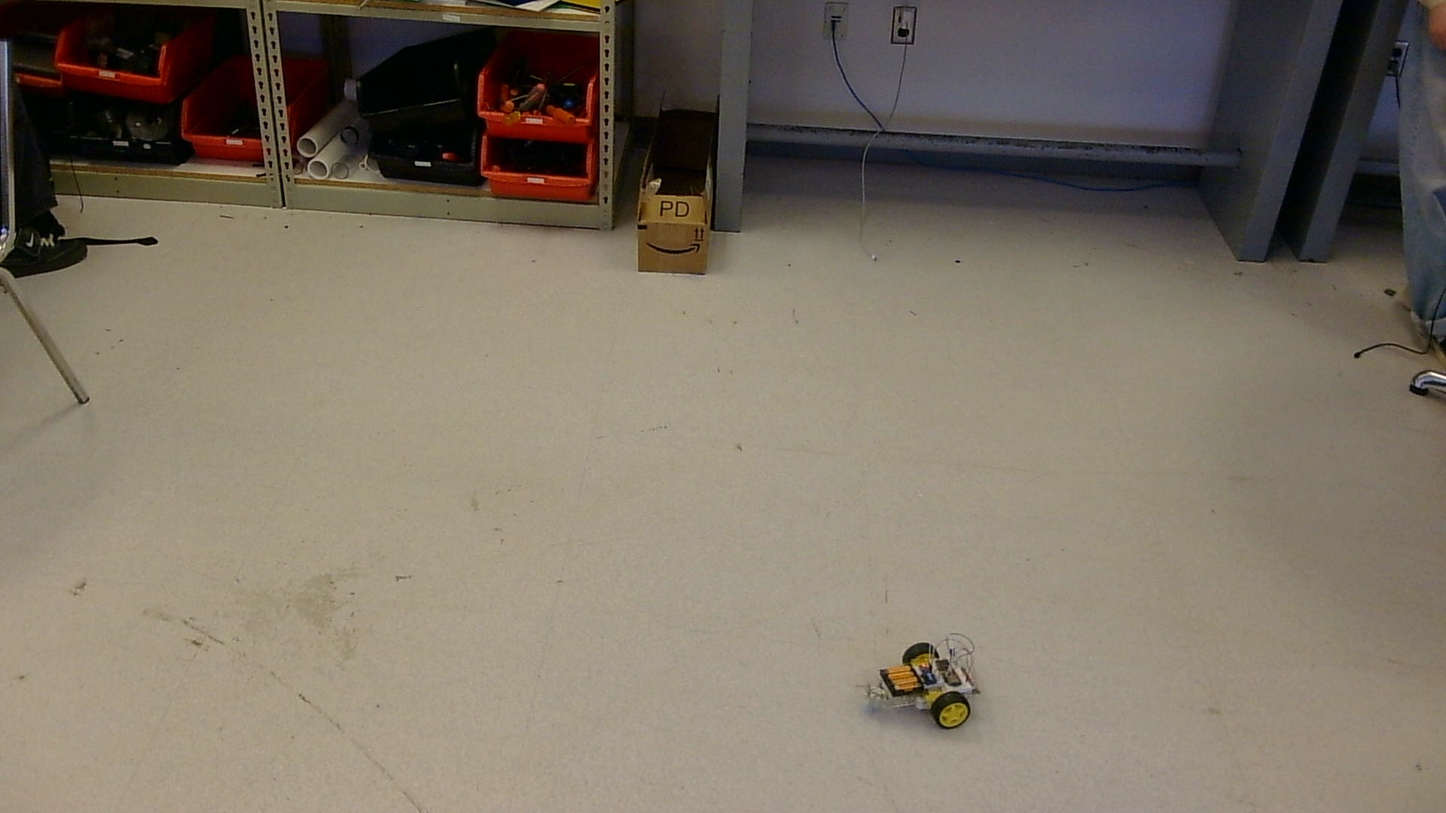robot: (866, 632, 978, 729)
